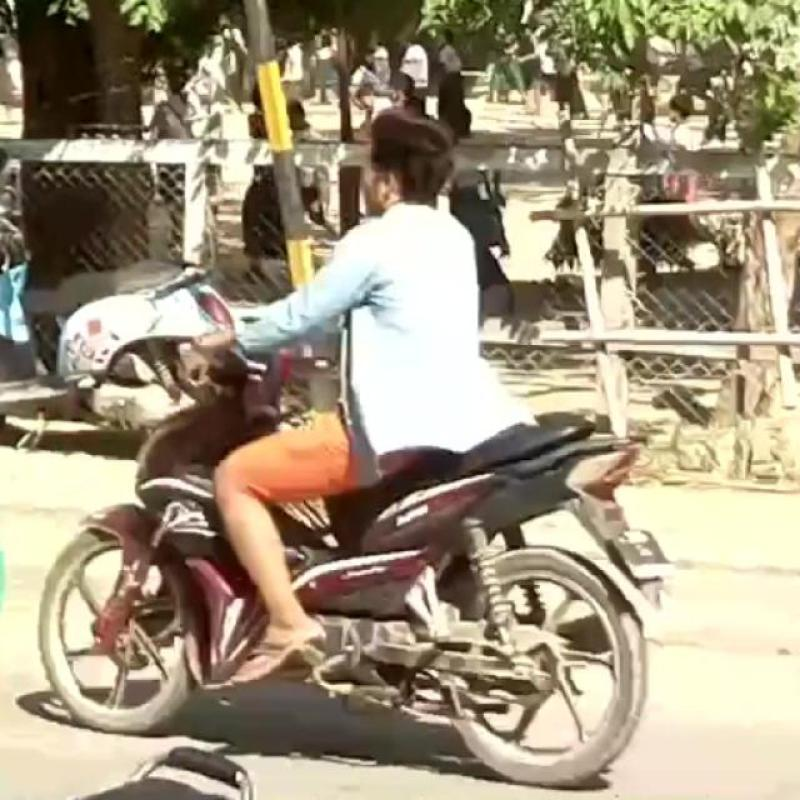nohelmet: (327, 70, 472, 235)
